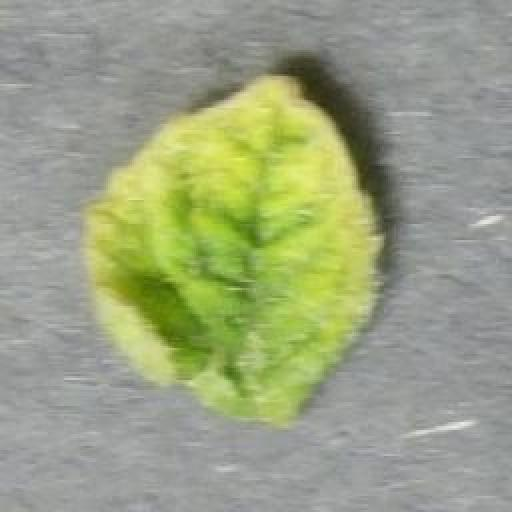Yellow Leaf Curl Virus: (81, 70, 384, 422)
